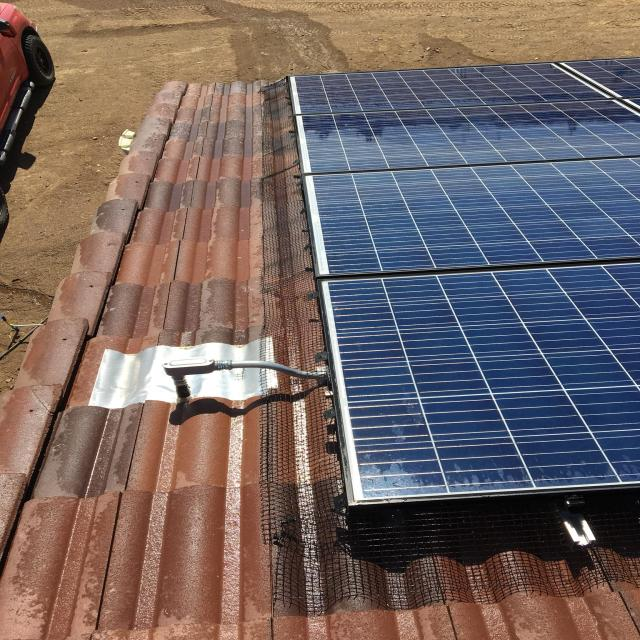clean-solar-panel: (323, 264, 638, 501)
